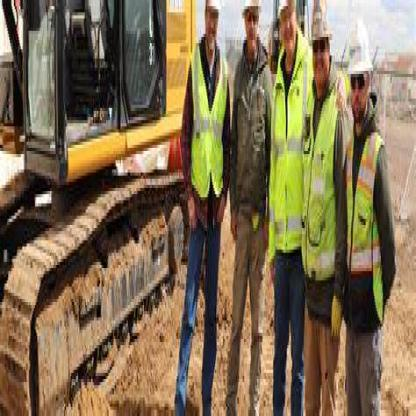person: (179, 0, 224, 413), (346, 9, 388, 413), (229, 0, 270, 413), (303, 0, 344, 410), (271, 0, 302, 410)
